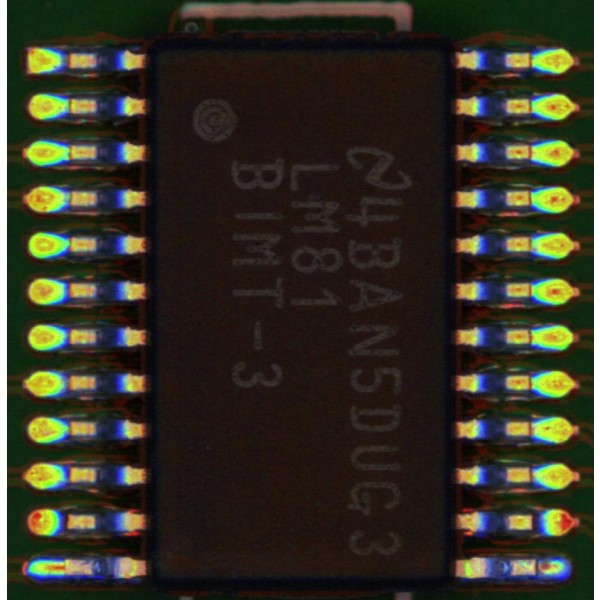Bad_podu: (523, 564, 552, 575), (51, 564, 77, 574)
